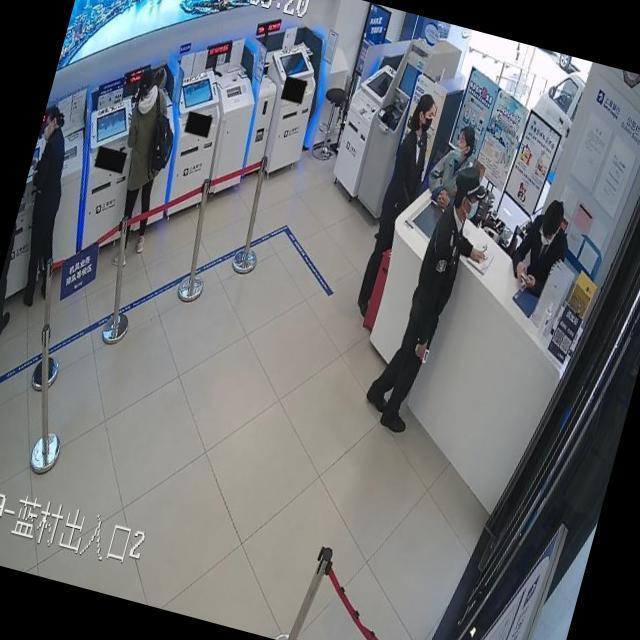person: (359, 158, 507, 443), (350, 87, 446, 326), (92, 60, 192, 263), (0, 104, 95, 311), (0, 163, 48, 341), (504, 192, 580, 302), (420, 120, 482, 218)
